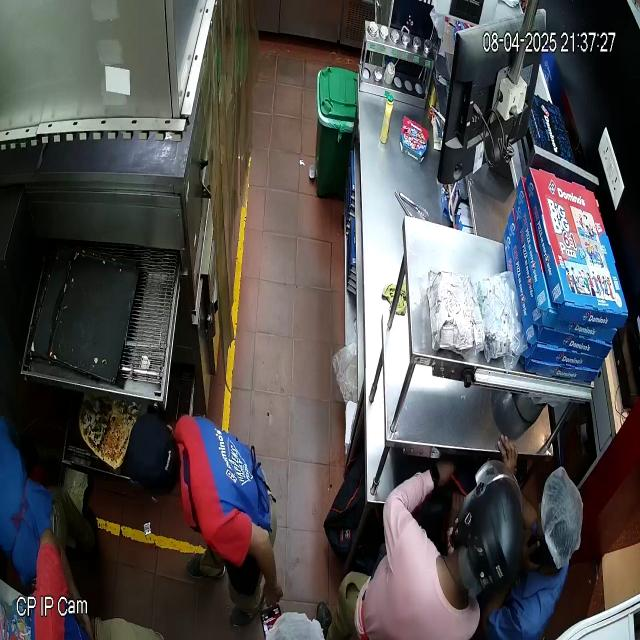helmet: (437, 459, 523, 611)
no_helmet: (534, 466, 583, 573), (127, 413, 181, 498)
